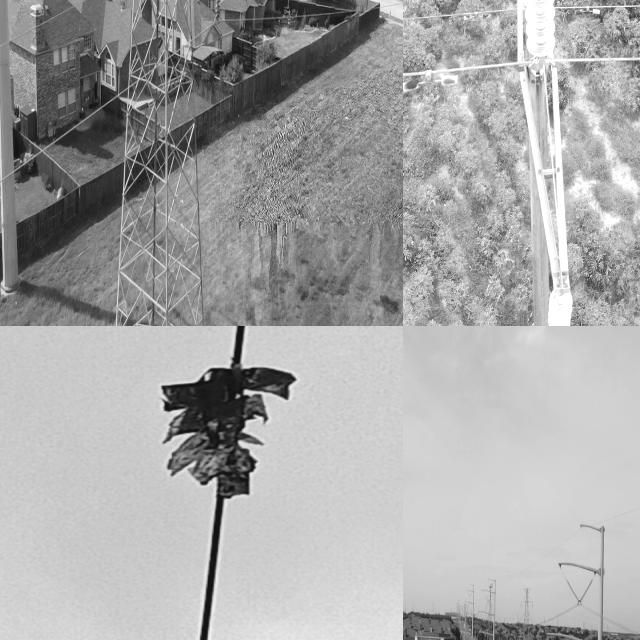杆塔: (113, 0, 210, 326), (517, 584, 533, 640)
植被遮挡: (151, 354, 313, 512)
正常电缆: (403, 55, 512, 80), (403, 1, 513, 25), (569, 50, 640, 72)
正常绝缘子: (516, 0, 561, 77), (564, 576, 583, 608), (577, 578, 595, 607), (215, 0, 222, 22)
